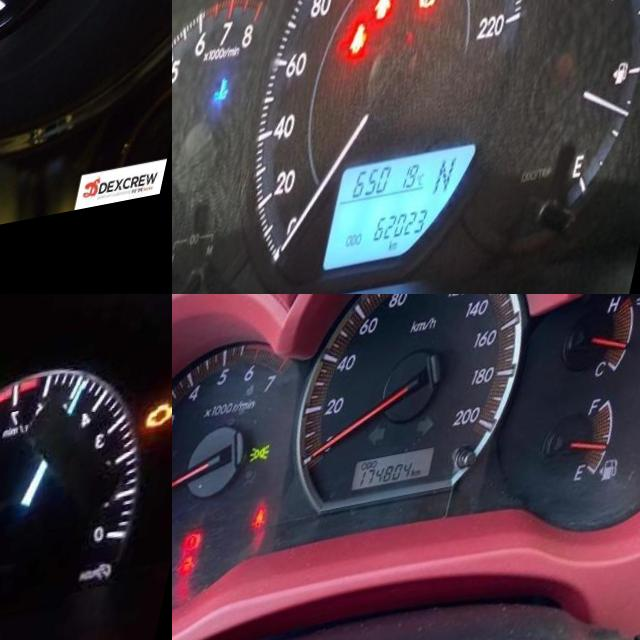Seat Belt: (357, 34, 380, 68), (268, 514, 284, 539)
